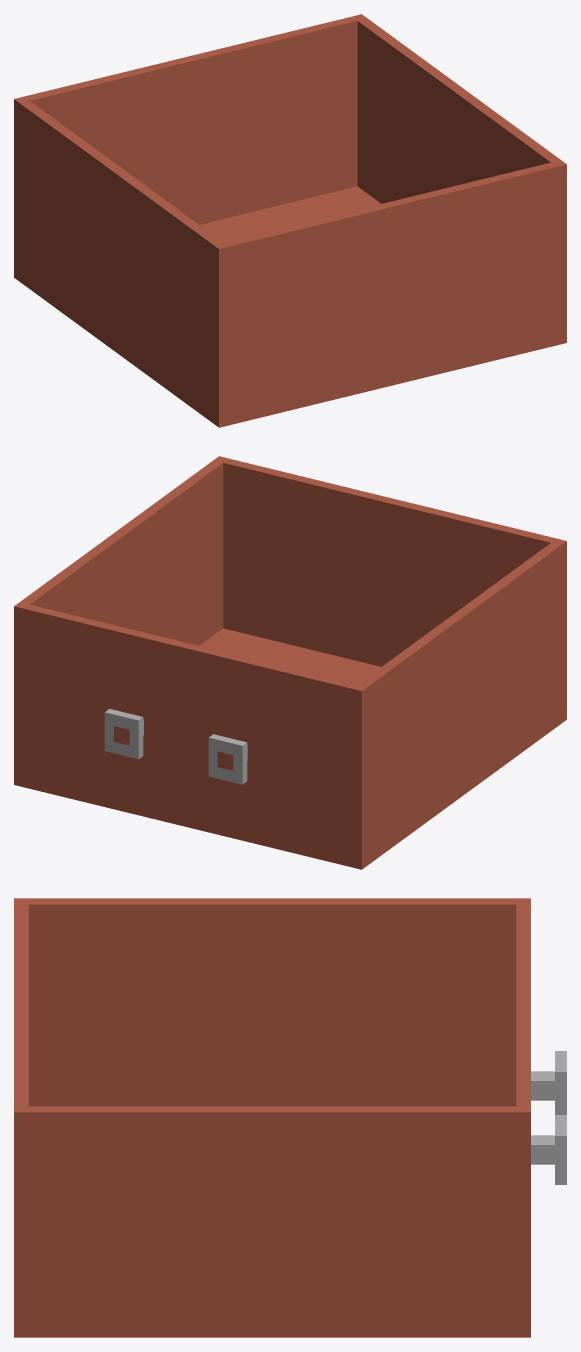
Rendered from szuflada_2.fbx.
3 renders of one model, top to bottom at view 1: azimuth 30°, elevation 25°; view 2: azimuth 150°, elevation 25°; view 3: azimuth 270°, elevation 25°, orthographic. The views are drawn at different scales.
Visible parts, largest first — view 1: Kostka.003; view 2: Kostka.003; view 3: Kostka.003.
Part boxes in pixels (left/top/right/bottom): Kostka.003: left=14, top=14, right=566, bottom=427; Kostka.003: left=14, top=456, right=566, bottom=869; Kostka.003: left=14, top=898, right=566, bottom=1337.
Size of the model in its own units: 1.84 by 0.9023 by 2.01.
